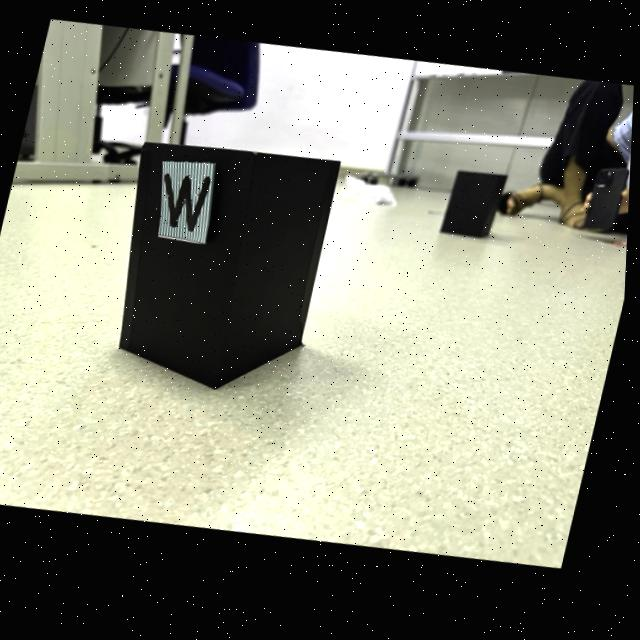W: (165, 178, 211, 233)
